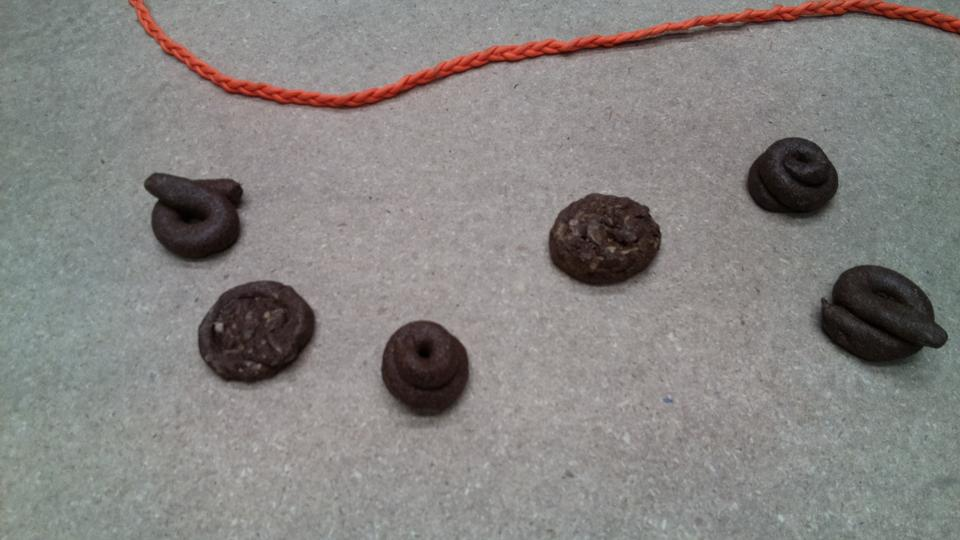poop: (816, 261, 951, 374), (194, 278, 320, 387), (546, 190, 666, 290), (378, 316, 472, 420), (141, 171, 246, 264), (745, 134, 842, 221)
rope: (124, 1, 958, 111)
